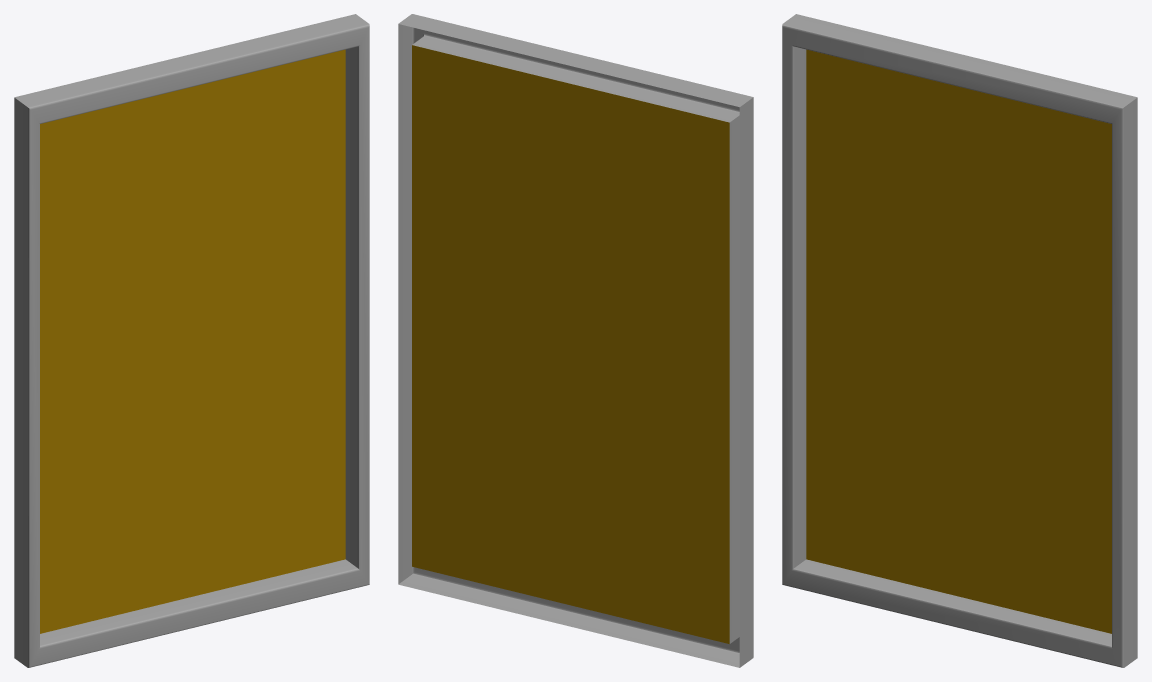
The model's file is En_P_paint40x60_1.fbx.
3 views of the same model, side by side, from view 1: azimuth 30°, elevation 25°; view 2: azimuth 150°, elevation 25°; view 3: azimuth 330°, elevation 25° (orthographic).
Visible parts, largest first — view 1: En_P_paint40x60_1; view 2: En_P_paint40x60_1; view 3: En_P_paint40x60_1.
Part boxes in pixels (x1,y1,x2,y2): En_P_paint40x60_1: (14, 14, 369, 667); En_P_paint40x60_1: (398, 14, 753, 667); En_P_paint40x60_1: (782, 14, 1137, 667).
Size of the model in its own units: 39.81 by 62.43 by 3.
